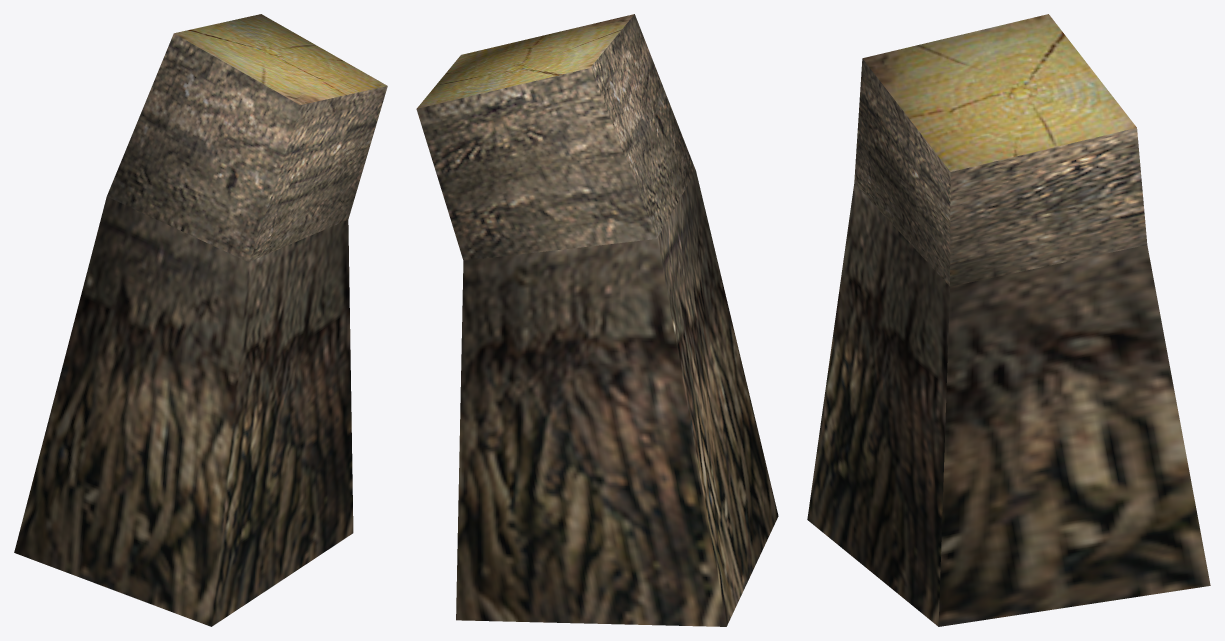
The model's file is fracturePiece0_lod2.FBX.
3 views of the same model, side by side, from view 1: azimuth 30°, elevation 25°; view 2: azimuth 150°, elevation 25°; view 3: azimuth 270°, elevation 25° (orthographic). The views are drawn at different scales.
Parts seen in each view (by area): view 1: fracturePiece0_lod2; view 2: fracturePiece0_lod2; view 3: fracturePiece0_lod2.
Part boxes in pixels (x1,y1,x2,y2): fracturePiece0_lod2: (14,14,387,626); fracturePiece0_lod2: (416,14,778,626); fracturePiece0_lod2: (807,14,1210,626).
Size of the model in its own units: 160 by 241 by 162.
